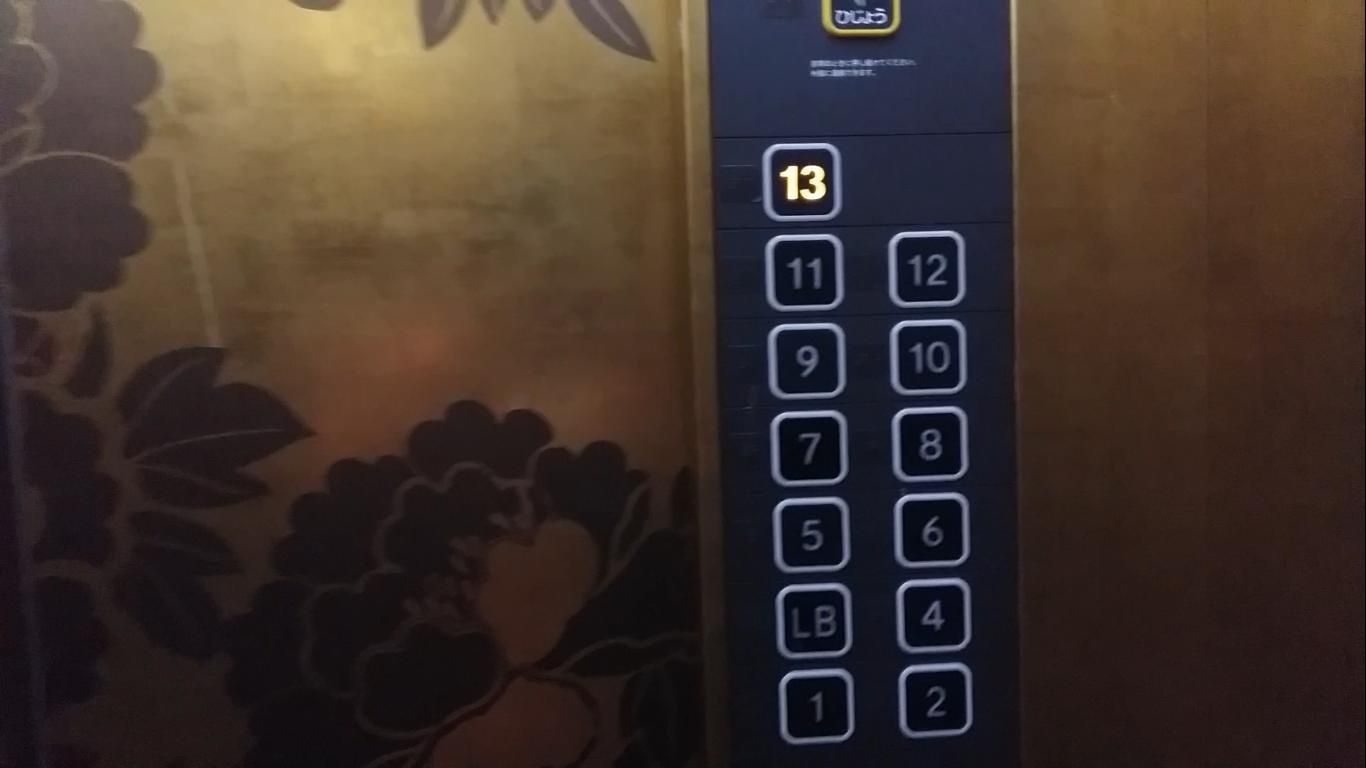1: (777, 667, 855, 748)
10: (888, 318, 969, 397)
11: (762, 233, 845, 313)
12: (885, 228, 968, 310)
13: (760, 139, 843, 226)
2: (896, 660, 976, 742)
4: (894, 576, 974, 656)
5: (771, 493, 852, 576)
6: (890, 488, 971, 570)
7: (768, 407, 851, 488)
8: (889, 405, 971, 486)
9: (766, 321, 847, 402)
LB: (773, 579, 852, 661)
